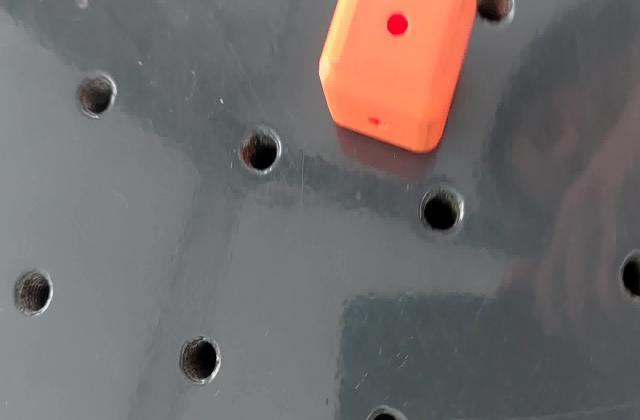cube: (316, 0, 478, 157)
